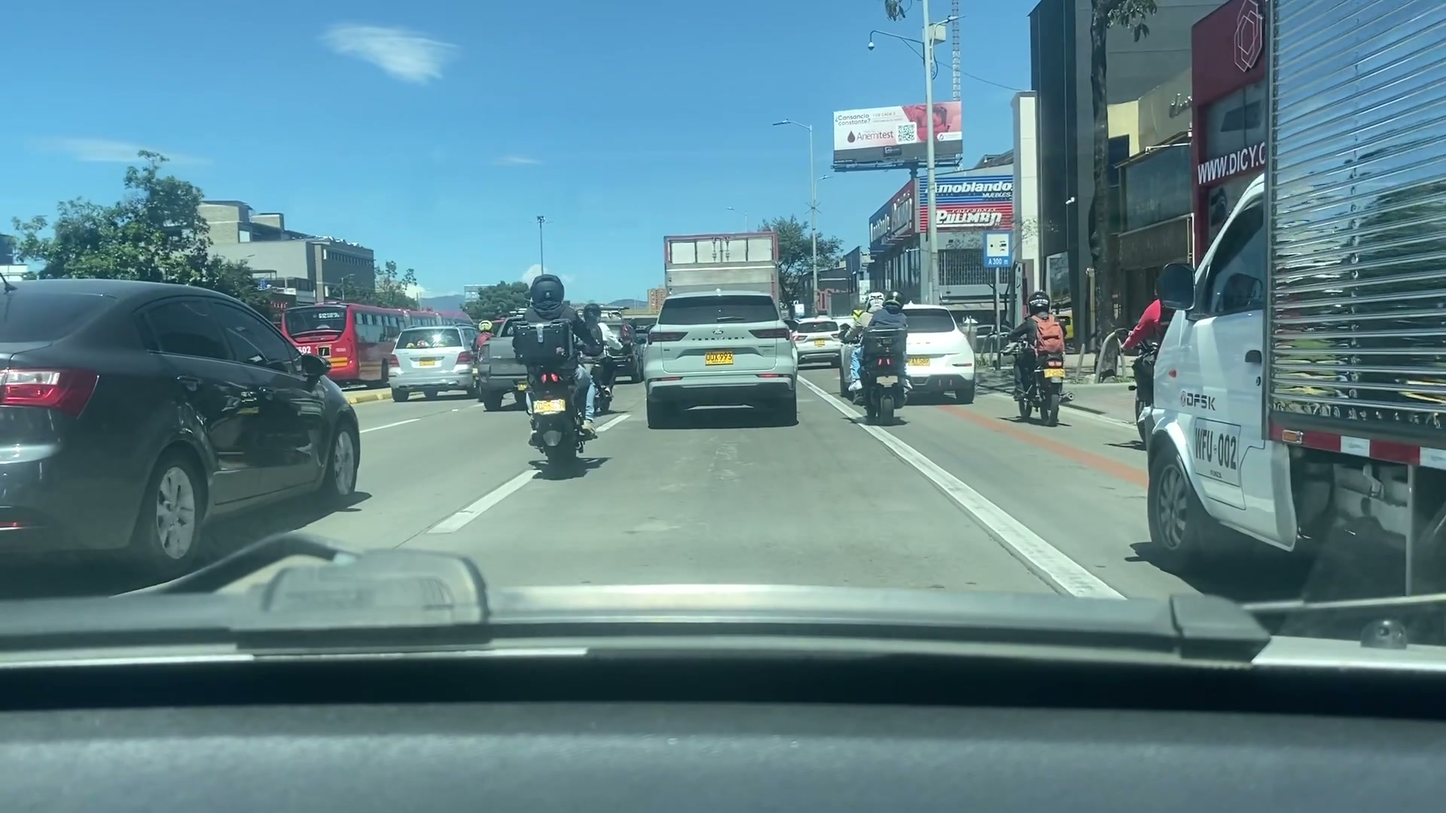car: (0, 270, 362, 556), (646, 288, 798, 428), (843, 304, 974, 405), (389, 326, 481, 400), (483, 313, 551, 412), (785, 310, 844, 368), (602, 323, 646, 382)
motorcycle: (510, 367, 589, 474), (1000, 347, 1074, 430), (847, 353, 915, 427)
person: (504, 275, 596, 466), (1006, 291, 1069, 402), (850, 287, 912, 393), (579, 296, 618, 410)
truck: (1121, 0, 1446, 597), (665, 236, 780, 314)
